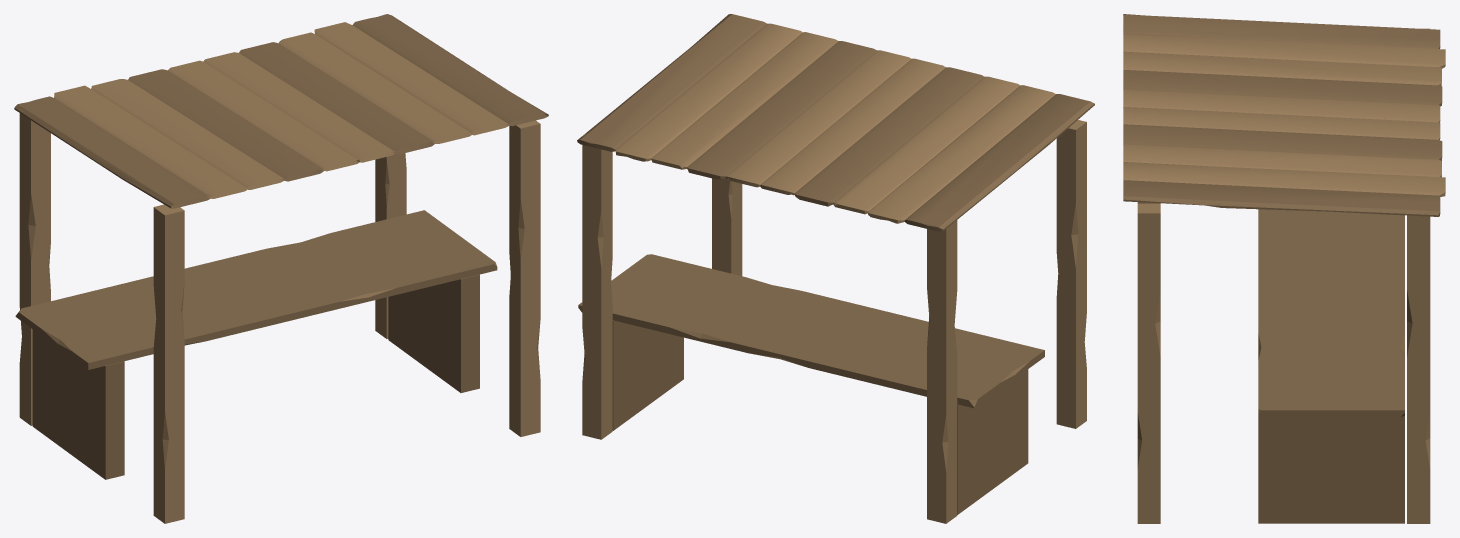
The model's file is SM_Env_Stall_06.fbx.
The picture shows the model from 3 angles, left to right: view 1: azimuth 30°, elevation 25°; view 2: azimuth 150°, elevation 25°; view 3: azimuth 270°, elevation 25°; orthographic projection. The views are drawn at different scales.
Visible parts, largest first — view 1: SM_Env_Stall_06; view 2: SM_Env_Stall_06; view 3: SM_Env_Stall_06.
Part boxes in pixels (x1,y1,x2,y2): SM_Env_Stall_06: [14, 14, 548, 523]; SM_Env_Stall_06: [577, 14, 1094, 523]; SM_Env_Stall_06: [1123, 14, 1445, 523].
Size of the model in its own units: 353 by 267 by 239.
Materials: 1 (1 with a texture image).
